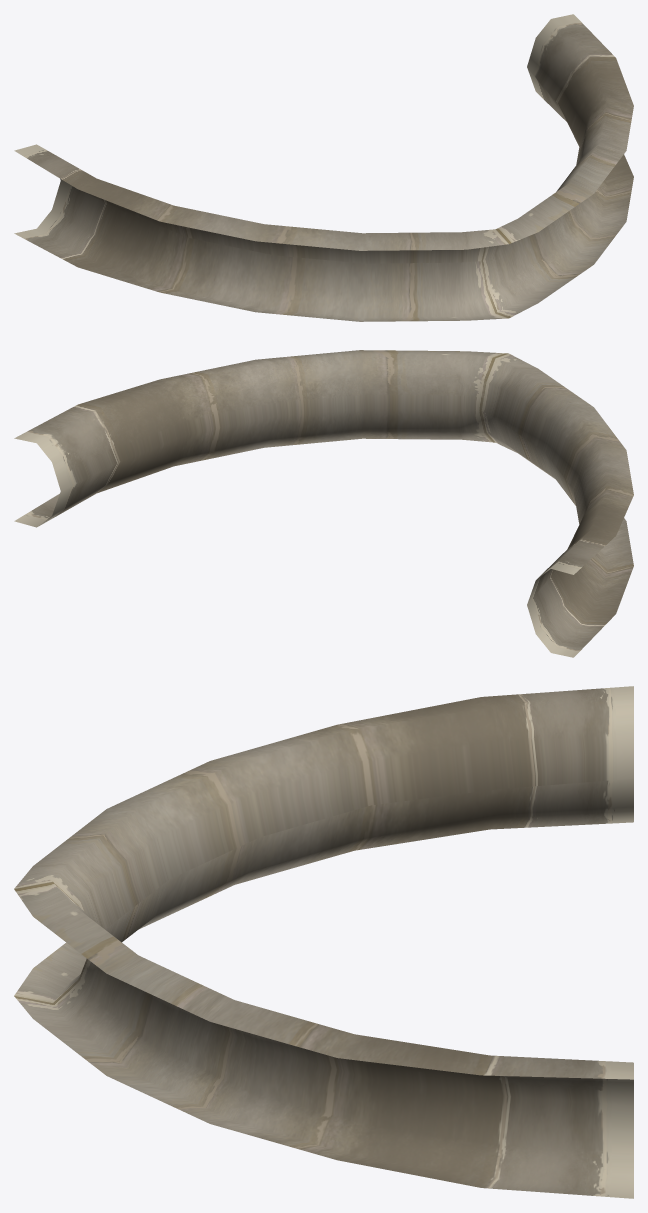
File: Cath_Fularch_s.FBX
3 renders of one model, top to bottom at view 1: azimuth 30°, elevation 25°; view 2: azimuth 150°, elevation 25°; view 3: azimuth 270°, elevation 25°, orthographic. The views are drawn at different scales.
Visible parts, largest first — view 1: Cath_Fularch_s; view 2: Cath_Fularch_s; view 3: Cath_Fularch_s.
Part boxes in pixels (x1,y1,x2,y2): Cath_Fularch_s: (14,14,633,321); Cath_Fularch_s: (14,350,633,657); Cath_Fularch_s: (14,686,633,1198).
Size of the model in its own units: 328 by 219 by 47.26.
